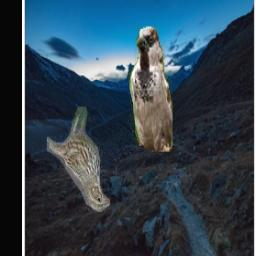Sparrow: (48, 108, 111, 213), (130, 23, 173, 163)
